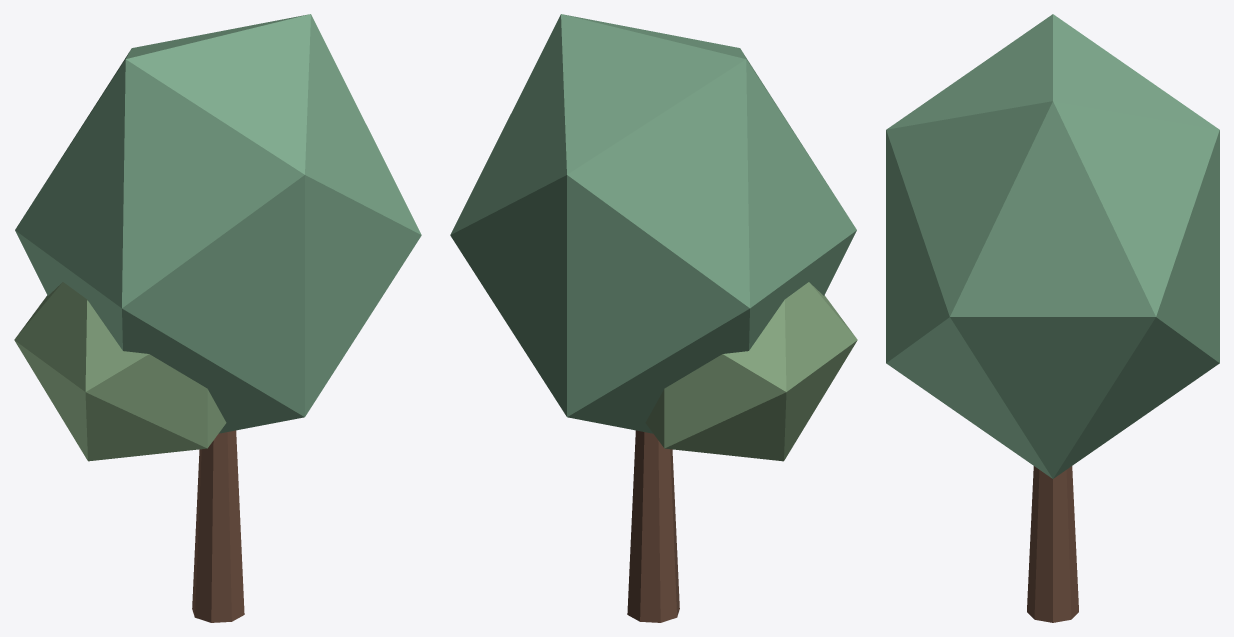
The model's file is tree-2.glb.
3 renders of one model, left to right at view 1: azimuth 30°, elevation 25°; view 2: azimuth 150°, elevation 25°; view 3: azimuth 270°, elevation 25°, orthographic. The views are drawn at different scales.
Parts seen in each view (by area): view 1: TreeMesh; view 2: TreeMesh; view 3: TreeMesh.
Boxes of the visible parts, bbox=[...] form: TreeMesh: bbox=[14, 14, 421, 622]; TreeMesh: bbox=[450, 14, 857, 622]; TreeMesh: bbox=[886, 14, 1219, 622].
Size of the model in its own units: 3.25 by 5.61 by 3.06.
1 material, 1 textured.
